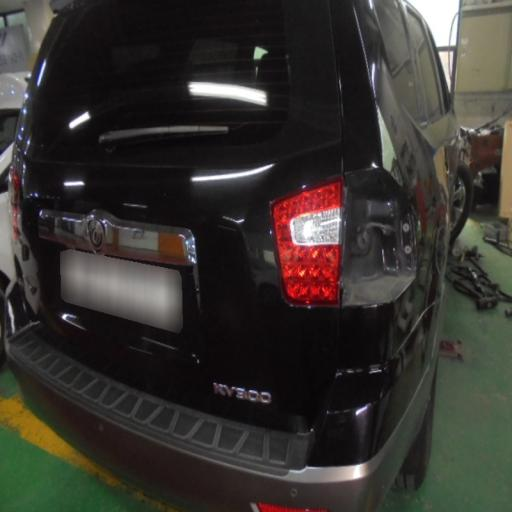normal: (17, 34, 452, 512)
